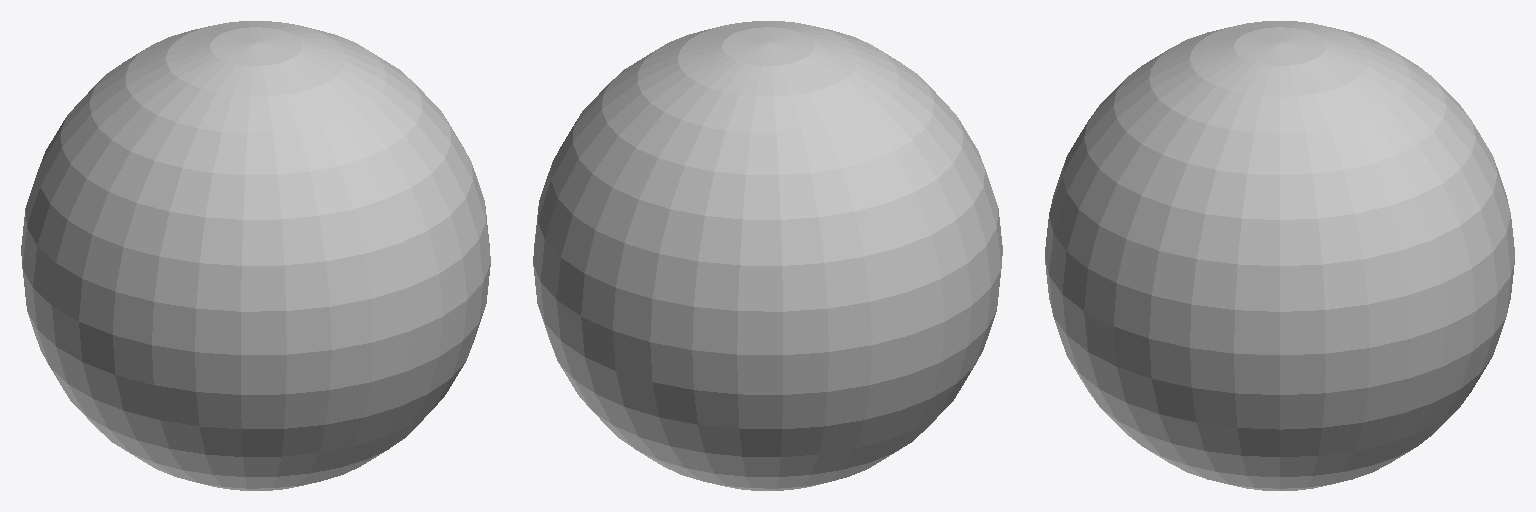
File: luna.obj
3 renders of one model, left to right at view 1: azimuth 30°, elevation 25°; view 2: azimuth 150°, elevation 25°; view 3: azimuth 270°, elevation 25°, orthographic.
Visible parts, largest first — view 1: Sphere_Material; view 2: Sphere_Material; view 3: Sphere_Material.
Part boxes in pixels (bbox=[...]): Sphere_Material: bbox=[21, 21, 490, 490]; Sphere_Material: bbox=[533, 21, 1002, 490]; Sphere_Material: bbox=[1045, 21, 1514, 490].
Size of the model in its own units: 1.74 by 1.74 by 1.74.